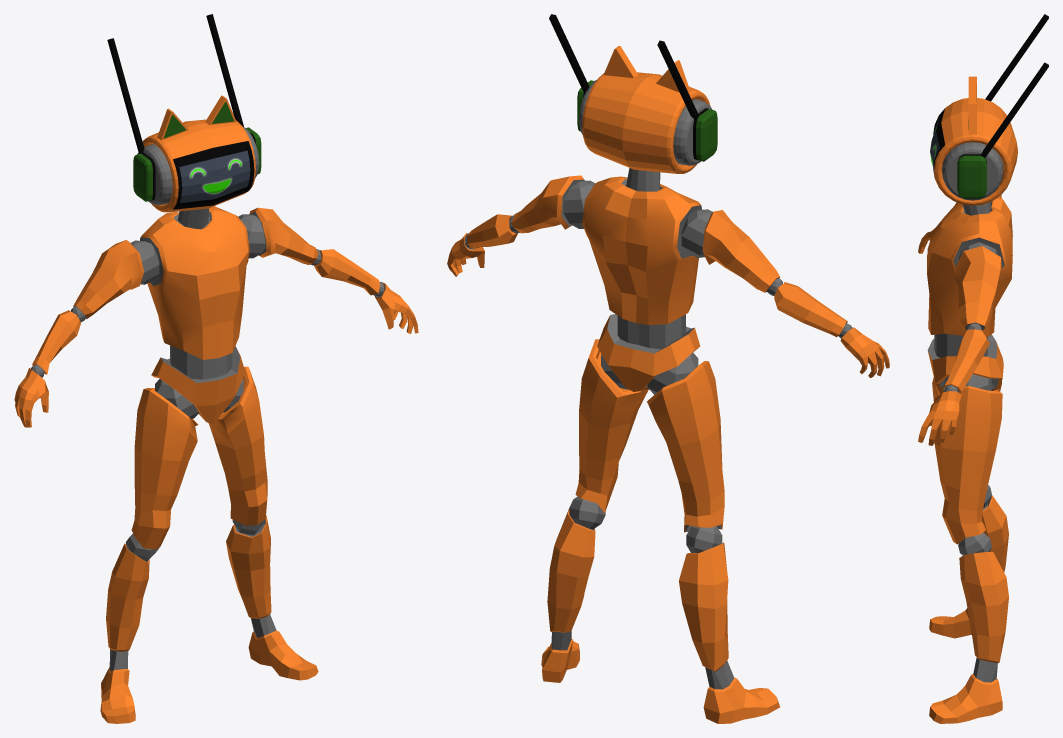
Rendered from RobotLastLevel14Part.fbx.
The picture shows the model from 3 angles, left to right: view 1: azimuth 30°, elevation 25°; view 2: azimuth 150°, elevation 25°; view 3: azimuth 270°, elevation 25°; orthographic projection. The views are drawn at different scales.
Parts seen in each view (by area): view 1: Body, RightUpperLeg, Head, LeftUpperLeg, RightUpperArm, LeftUpperArm; view 2: Body, RightUpperLeg, Head, LeftUpperLeg, RightUpperArm, LeftUpperArm; view 3: LeftUpperLeg, Head, Body, LeftUpperArm, RightUpperLeg.
Boxes of the visible parts, left/top/right/bottom form: Body: left=140, top=206, right=249, bottom=424; RightUpperLeg: left=100, top=379, right=199, bottom=723; Head: left=107, top=14, right=261, bottom=212; LeftUpperLeg: left=208, top=366, right=318, bottom=680; RightUpperArm: left=14, top=240, right=159, bottom=427; LeftUpperArm: left=238, top=207, right=418, bottom=333; Body: left=582, top=168, right=702, bottom=391; RightUpperLeg: left=647, top=352, right=779, bottom=723; Head: left=549, top=14, right=717, bottom=173; LeftUpperLeg: left=541, top=339, right=647, bottom=682; RightUpperArm: left=681, top=209, right=889, bottom=377; LeftUpperArm: left=447, top=175, right=594, bottom=276; LeftUpperLeg: left=929, top=374, right=1008, bottom=723; Head: left=930, top=14, right=1048, bottom=205; Body: left=927, top=196, right=1012, bottom=395; LeftUpperArm: left=918, top=242, right=1003, bottom=445; RightUpperLeg: left=929, top=377, right=1008, bottom=638.
Bounding box in the file's own units: 146 × 42.03 × 225.
